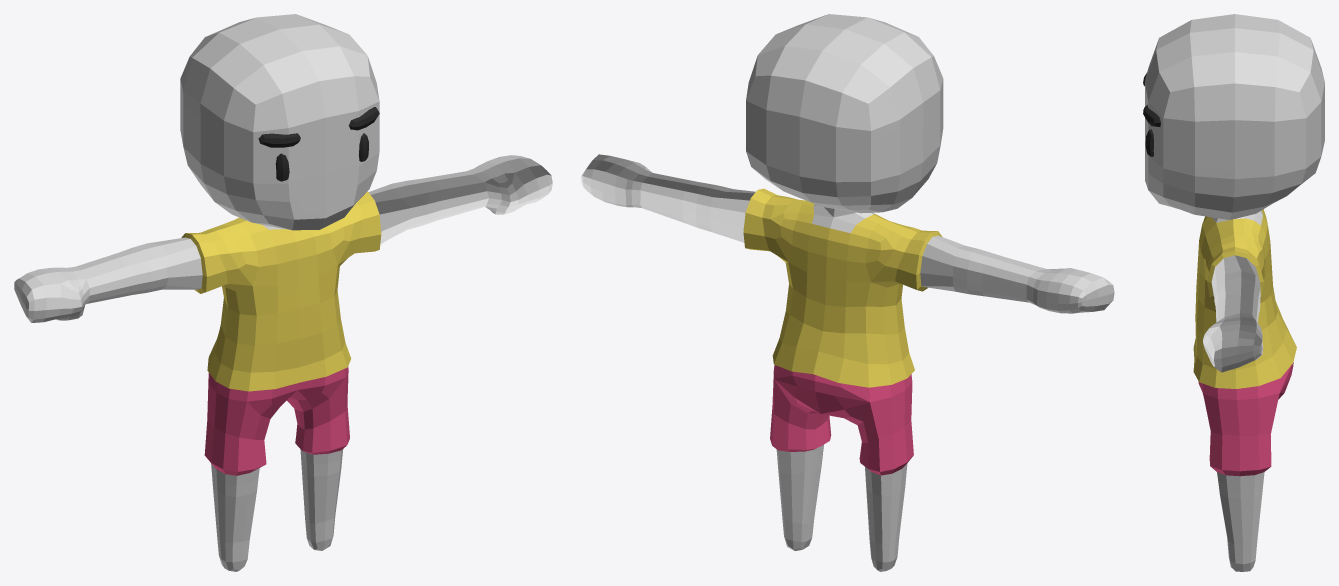
The model's file is Casual_Bald.fbx.
3 renders of one model, left to right at view 1: azimuth 30°, elevation 25°; view 2: azimuth 150°, elevation 25°; view 3: azimuth 270°, elevation 25°, orthographic. The views are drawn at different scales.
Parts seen in each view (by area): view 1: Body; view 2: Body; view 3: Body.
Part boxes in pixels (x1,y1,x2,y2): Body: [14, 14, 552, 571]; Body: [581, 14, 1114, 571]; Body: [1143, 14, 1324, 571].
Size of the model in its own units: 324 by 315 by 99.31.
